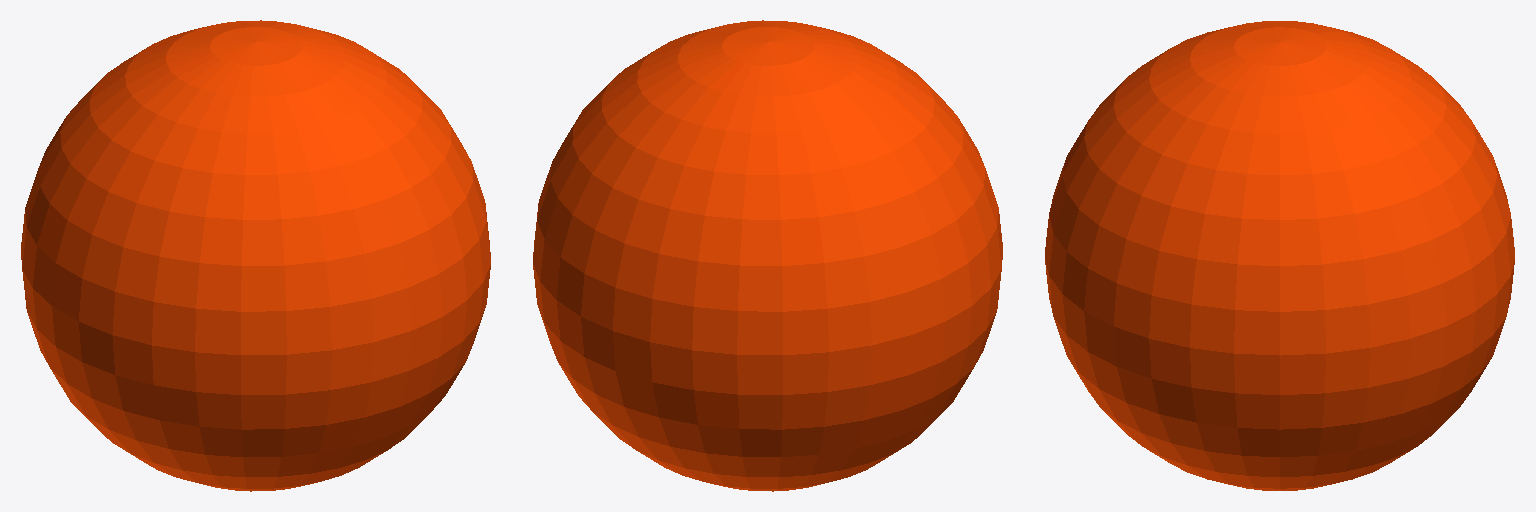
URDF robot description (contact_ball):
<?xml version="1.0"?>
<robot name="contact_ball">
  <link name="ball">
    <inertial>
      <mass value="1"/>
      <origin xyz="0 0 0"/>
      <inertia ixx="0.00256" ixy="0" ixz="0" iyy="0.00256" iyz="0" izz="0.00256"/>
    </inertial>
    <visual>
      <geometry><sphere radius="0.08"/></geometry>
      <material name="orange"><color rgba="1 0.35 0.05 1"/></material>
    </visual>
    <collision><geometry><sphere radius="0.08"/></geometry></collision>
  </link>
</robot>

--- Facts derived from the render (not from the file) ---
3 views of the same robot in one strip: view 1: azimuth 30°, elevation 25°; view 2: azimuth 150°, elevation 25°; view 3: azimuth 270°, elevation 25° (orthographic).
Model contact_ball with 1 links and 0 joints (none), rooted at ball, posed every joint at zero.
Links seen in each view (by area): view 1: ball; view 2: ball; view 3: ball.
Link boxes in pixels (box(x1,y1,x2,y2)): ball: box(21, 20, 490, 491); ball: box(533, 20, 1002, 491); ball: box(1045, 21, 1514, 490).
Size in the robot's own frame: 0.16 by 0.16 by 0.16 metres.
Geometry: primitives only (box / cylinder / sphere), no mesh files.
